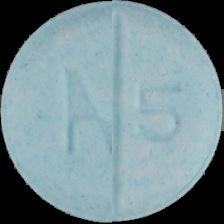0378-1458: (0, 0, 224, 224)
